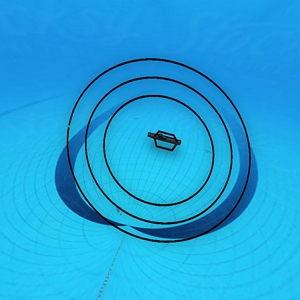circle: (68, 56, 252, 243)
submarine: (145, 130, 180, 151)
